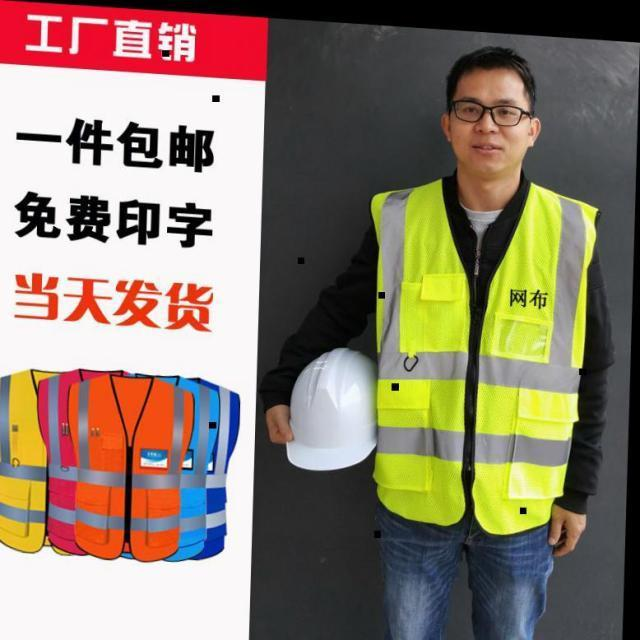safety_helmet: (369, 176, 618, 551)
